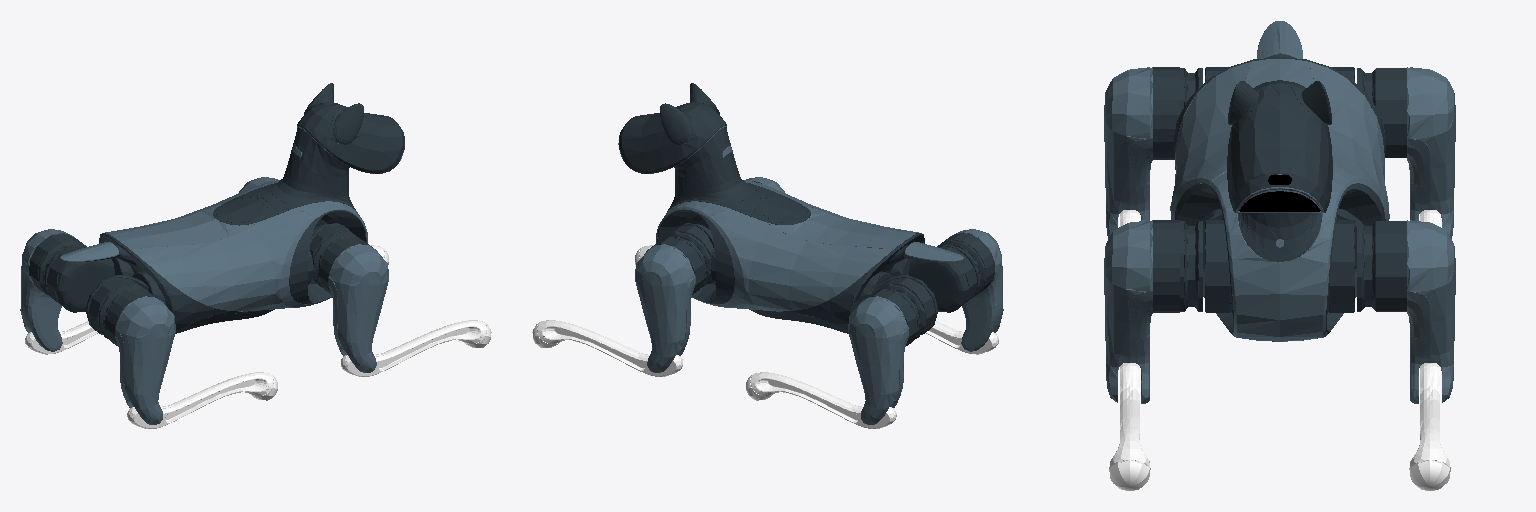
--- Render facts (derived) ---
Views: 3 orthographic renders of the robot side by side, from view 1: azimuth 30°, elevation 25°; view 2: azimuth 150°, elevation 25°; view 3: azimuth 270°, elevation 25°.
Robot: cyber_dog — 36 links, 35 joints (12 revolute, 23 fixed); root link base; default pose: all joints at 0 but 4 set to mid-range because 0 is outside their limits (FR_calf_joint = 1.53, FL_calf_joint = 1.53, RR_calf_joint = 1.53, RL_calf_joint = 1.53).
Visible links, largest first — view 1: trunk, RR_thigh, FR_thigh, RL_thigh, RL_hip, RR_calf, FR_calf, RR_hip, RL_calf, FR_hip; view 2: trunk, RL_thigh, FL_thigh, RR_thigh, RR_hip, RL_calf, FL_calf, RL_hip, RR_calf, FL_hip; view 3: trunk, FR_thigh, FL_thigh, RR_thigh, RL_thigh, FL_calf, FR_calf, FR_hip, FL_hip.
Link boxes in pixels (x1,y1,x2,y2): trunk: (60, 83, 404, 333); RR_thigh: (98, 284, 175, 424); FR_thigh: (313, 232, 388, 372); RL_thigh: (20, 229, 86, 351); RL_hip: (47, 246, 133, 312); RR_calf: (127, 372, 277, 428); FR_calf: (341, 320, 491, 376); RR_hip: (85, 271, 165, 334); RL_calf: (25, 321, 97, 354); FR_hip: (308, 223, 354, 286); trunk: (618, 83, 963, 333); RL_thigh: (848, 284, 925, 424); FL_thigh: (635, 232, 710, 372); RR_thigh: (937, 229, 1003, 351); RR_hip: (890, 246, 976, 312); RL_calf: (746, 372, 896, 428); FL_calf: (532, 320, 682, 376); RL_hip: (858, 271, 938, 334); RR_calf: (926, 321, 998, 354); FL_hip: (668, 223, 715, 287); trunk: (1170, 21, 1389, 341); FR_thigh: (1104, 220, 1202, 403); FL_thigh: (1357, 220, 1455, 403); RR_thigh: (1104, 67, 1202, 238); RL_thigh: (1357, 67, 1455, 238); FL_calf: (1409, 363, 1450, 490); FR_calf: (1109, 363, 1150, 490); FR_hip: (1200, 209, 1232, 313); FL_hip: (1327, 209, 1359, 313).
Bounding box of the posed robot: 0.5804 × 0.3191 × 0.3503 m (x, y, z).
Meshes: 5 distinct files referenced, 13 mesh visuals loaded (5 Collada DAE).

URDF robot description (cyber_dog):
<?xml version="1.0" encoding="utf-8"?>
<!-- =================================================================================== -->
<!-- |    This document was autogenerated by xacro from robot.xacro                    | -->
<!-- |    EDITING THIS FILE BY HAND IS NOT RECOMMENDED                                 | -->
<!-- =================================================================================== -->
<robot name="cyber_dog">
  <material name="orange">
    <color rgba="1.0 0.4235294117647059 0.0392156862745098 1.0"/>
  </material>
  <material name="white">
    <color rgba="1.0 1.0 1.0 1.0"/>
  </material>
  <material name="blue">
    <color rgba="0.0 0.0 0.8 1.0"/>
  </material>
  <link name="base">
    <visual>
      <origin rpy="0 0 0" xyz="0 0 0"/>
      <geometry>
        <box size="0.001 0.001 0.001"/>
      </geometry>
    </visual>
  </link>
  <joint name="floating_base" type="fixed">
    <origin rpy="0 0 0" xyz="0 0 0"/>
    <parent link="base"/>
    <child link="trunk"/>
  </joint>
  <link name="trunk">
    <visual>
      <origin rpy="0 0 0" xyz="0 0 0"/>
      <geometry>
        <mesh filename="../meshes/body.dae" scale="1 1 1"/>
      </geometry>
    </visual>
    <collision>
      <origin rpy="0 0 0" xyz="0 0 0"/>
      <geometry>
        <box size="0.236 0.19 0.109"/>
      </geometry>
    </collision>
    <inertial>
      <origin rpy="0 0 0" xyz="0.0273 -0.000242 0.0143"/>
      <mass value="4.03"/>
      <inertia ixx="0.0185" ixy="-0.000173" ixz="-0.0102" iyy="0.0517" iyz="-2.83e-05" izz="0.0483"/>
    </inertial>
  </link>
  <joint name="imu_joint" type="fixed">
    <parent link="trunk"/>
    <child link="imu_link"/>
    <origin rpy="0 0 0" xyz="33.4e-3 -17.2765e-3 51.0469e-3"/>
  </joint>
  <link name="imu_link">
    <inertial>
      <mass value="0.001"/>
      <origin rpy="0 0 0" xyz="0 0 0"/>
      <inertia ixx="0.0001" ixy="0" ixz="0" iyy="0.0001" iyz="0" izz="0.0001"/>
    </inertial>
    <visual>
      <origin rpy="0 0 0" xyz="0 0 0"/>
      <geometry>
        <box size="0.001 0.001 0.001"/>
      </geometry>
    </visual>
    <collision>
      <origin rpy="0 0 0" xyz="0 0 0"/>
      <geometry>
        <box size=".001 .001 .001"/>
      </geometry>
    </collision>
  </link>
  <!-- <joint name="scan_joint" type="fixed">
    <parent link="body"/>
    <child link="lidar_link"/>
    <origin rpy="0 0 0" xyz="0.21425 0 0.0908"/>
  </joint> -->
  <!-- <link name="lidar_link">
    <inertial>
      <mass value="0.001"/>
      <origin rpy="0 0 0" xyz="0 0 0"/>
      <inertia ixx="0.0001" ixy="0" ixz="0" iyy="0.0001" iyz="0" izz="0.0001"/>
    </inertial>
  </link> -->
  <!-- <joint name="D435_camera_joint" type="fixed">
    <parent link="body"/>
    <child link="D435_camera_link"/>
    <origin rpy="0 0 0" xyz="271.994e-3 25e-3 114.912e-3"/>
  </joint> -->
  <!-- <link name="D435_camera_link">
    <inertial>
      <mass value="0.001"/>
      <origin rpy="0 0 0" xyz="0 0 0"/>
      <inertia ixx="0.0001" ixy="0" ixz="0" iyy="0.0001" iyz="0" izz="0.0001"/>
    </inertial>
    <visual>
      <origin rpy="0 0 0" xyz="0 0 0"/>
      <geometry>
        <box size="0.001 0.001 0.001"/>
      </geometry>
    </visual>
    <collision>
      <origin rpy="0 0 0" xyz="0 0 0"/>
      <geometry>
        <box size=".001 .001 .001"/>
      </geometry>
    </collision>
  </link> -->
  <!-- <joint name="RGB_camera_joint" type="fixed">
    <parent link="body"/>
    <child link="RGB_camera_link"/>
    <origin rpy="0 0 0" xyz="275.76e-3 0 125.794e-3"/>
  </joint> -->
  <!-- <link name="RGB_camera_link">
    <inertial>
      <mass value="0.001"/>
      <origin rpy="0 0 0" xyz="0 0 0"/>
      <inertia ixx="0.0001" ixy="0" ixz="0" iyy="0.0001" iyz="0" izz="0.0001"/>
    </inertial>
    <visual>
      <origin rpy="0 0 0" xyz="0 0 0"/>
      <geometry>
        <box size="0.001 0.001 0.001"/>
      </geometry>
    </visual>
    <collision>
      <origin rpy="0 0 0" xyz="0 0 0"/>
      <geometry>
        <box size=".001 .001 .001"/>
      </geometry>
    </collision>
  </link> -->
  <!-- <joint name="AI_camera_joint" type="fixed">
    <parent link="body"/>
    <child link="AI_camera_link"/>
    <origin rpy="0 0 0" xyz="290.228e-3 0 147.420e-3"/>
  </joint> -->
  <!-- <link name="AI_camera_link">
    <inertial>
      <mass value="0.001"/>
      <origin rpy="0 0 0" xyz="0 0 0"/>
      <inertia ixx="0.0001" ixy="0" ixz="0" iyy="0.0001" iyz="0" izz="0.0001"/>
    </inertial>
    <visual>
      <origin rpy="0 0 0" xyz="0 0 0"/>
      <geometry>
        <box size="0.001 0.001 0.001"/>
      </geometry>
    </visual>
    <collision>
      <origin rpy="0 0 0" xyz="0 0 0"/>
      <geometry>
        <box size=".001 .001 .001"/>
      </geometry>
    </collision>
  </link> -->
  <joint name="FR_hip_joint" type="revolute">
    <origin rpy="0 0 0" xyz="0.164 -0.042 0"/>
    <parent link="trunk"/>
    <child link="FR_hip"/>
    <axis xyz="1 0 0"/>
    <dynamics damping="0.05" friction="0.2"/>
    <limit effort="12.0001" lower="-0.680678408278" upper="0.680678408278" velocity="38.1935483871"/>
  </joint>
  <link name="FR_hip">
    <visual>
      <origin rpy="3.14159265359 0 0" xyz="0 0 0"/>
      <geometry>
        <mesh filename="../meshes/abad.dae" scale="1 1 1"/>
      </geometry>
      <!-- <material name="orange"/> -->
    </visual>
    <!-- Remove similar to go1 -->
    <!-- <collision>
      <origin rpy="1.57079632679 0 0" xyz="0 0 0"/>
      <geometry>
        <cylinder length="0.035" radius="0.039"/>
      </geometry>
    </collision> -->
    <inertial>
      <origin rpy="0 0 0" xyz="-0.00392 -0.015 -0.000306"/>
      <mass value="0.354"/>
      <inertia ixx="0.00019" ixy="2.7e-05" ixz="-3.44e-07" iyy="0.000276" iyz="-1.95e-06" izz="0.000233"/>
    </inertial>
  </link>
  <joint name="FR_hip_rotor_inertia_joint" type="fixed">
    <origin rpy="0 0 0" xyz="-0.0642303 0 0"/>
    <parent link="FR_hip"/>
    <child link="FR_hip_rotor_inertia"/>
  </joint>
  <!-- this link is only for abad rotor inertial -->
  <link name="FR_hip_rotor_inertia">
    <inertial>
      <origin rpy="0 0 0" xyz="0 0 0"/>
      <mass value="0.0567"/>
      <inertia ixx="2.53e-05" ixy="0" ixz="0" iyy="2.53e-05" iyz="0" izz="4.78e-05"/>
    </inertial>
  </link>
  <joint name="FR_hip_rotor_joint" type="fixed">
    <origin rpy="0 0 0" xyz="0 -0.059 0"/>
    <parent link="FR_hip"/>
    <child link="FR_hip_rotor"/>
  </joint>
  <link name="FR_hip_rotor">
    <!-- Remove similar to go1 -->
    <!-- <collision>
      <origin rpy="1.57079632679 0 0" xyz="0 0 0"/>
      <geometry>
        <cylinder length="0.035" radius="0.039"/>
      </geometry>
    </collision> -->
  </link>
  <joint name="FR_thigh_joint" type="revolute">
    <origin rpy="0 0 3.14159265359" xyz="0 -0.094 0"/>
    <parent link="FR_hip"/>
    <child link="FR_thigh"/>
    <axis xyz="0 1 0"/>
    <dynamics damping="0.05" friction="0.2"/>
    <limit effort="12.0001" lower="-2.79252680319" upper="1.32645023152" velocity="38.1935483871"/>
  </joint>
  <link name="FR_thigh">
    <visual>
      <origin rpy="0 0 0" xyz="0 0 0"/>
      <geometry>
        <mesh filename="../meshes/hip_mirror.dae" scale="1 1 1"/>
      </geometry>
      <!-- <material name="orange"/> -->
    </visual>
    <collision>
      <origin rpy="0 1.57079632679 0" xyz="0 0 -0.06"/>
      <geometry>
        <box size="0.12 0.025 0.034"/>
      </geometry>
    </collision>
    <inertial>
      <origin rpy="0 0 0" xyz="0.00212 -0.0212 -0.0184"/>
      <mass value="0.482"/>
      <inertia ixx="0.00101" ixy="-2.23e-05" ixz="3.85e-05" iyy="0.000983" iyz="0.000199" izz="0.000347"/>
    </inertial>
  </link>
  <joint name="FR_thigh_rotor_fix" type="fixed">
    <origin rpy="0 0 0" xyz="0 -0.07577 0"/>
    <parent link="FR_thigh"/>
    <child link="FR_thigh_rotor"/>
  </joint>
  <!-- this link is only for hip rotor inertial -->
  <link name="FR_thigh_rotor">
    <inertial>
      <origin rpy="0 0 0" xyz="0 0 0"/>
      <mass value="0.0567"/>
      <inertia ixx="2.53e-05" ixy="0" ixz="0" iyy="2.53e-05" iyz="0" izz="4.78e-05"/>
    </inertial>
  </link>
  <joint name="FR_knee_rotor_fix" type="fixed">
    <origin rpy="0 0 0" xyz="0 -0.0342303 0"/>
    <parent link="FR_thigh"/>
    <child link="FR_knee_rotor"/>
  </joint>
  <!-- this link is only for knee rotor inertial -->
  <link name="FR_knee_rotor">
    <inertial>
      <origin rpy="0 0 0" xyz="0 0 0"/>
      <mass value="0.0567"/>
      <inertia ixx="2.53e-05" ixy="0" ixz="0" iyy="2.53e-05" iyz="0" izz="4.78e-05"/>
    </inertial>
  </link>
  <joint name="FR_calf_joint" type="revolute">
    <origin rpy="0 0 0" xyz="0 0 -0.12"/>
    <parent link="FR_thigh"/>
    <child link="FR_calf"/>
    <axis xyz="0 1 0"/>
    <dynamics damping="0.05" friction="0.2"/>
    <limit effort="12.0001" lower="0.523598775598" upper="2.53072741539" velocity="38.1935483871"/>
  </joint>
  <link name="FR_calf">
    <visual>
      <origin rpy="0 0 0" xyz="0 0 0"/>
      <geometry>
        <mesh filename="../meshes/knee.dae" scale="1 1 1"/>
      </geometry>
      <material name="white"/>
    </visual>
    <collision>
      <origin rpy="0 3.14159265359 0" xyz="0 0 -0.091705"/>
      <geometry>
        <box size="0.016 0.016 0.18341"/>
      </geometry>
    </collision>
    <collision name="FR_knee_rubber">
      <origin rpy="0 3.14159265359 0" xyz="0.01 0 -0.007"/>
      <geometry>
        <sphere radius="0.016"/>
      </geometry>
      <surface>
        <contact>
          <ode>
            <max_vel>0.00001</max_vel>
            <min_depth>0.0</min_depth>
          </ode>
        </contact>
      </surface>
    </collision>
    <inertial>
      <origin rpy="0 0 0" xyz="-0.0006 4.72e-05 -0.0893"/>
      <mass value="0.116"/>
      <inertia ixx="0.000668" ixy="3e-09" ixz="-2.37e-05" iyy="0.000674" iyz="-6.03e-07" izz="1.54e-05"/>
    </inertial>
  </link>
  <joint name="FR_foot_fixed" type="fixed" dont_collapse="true">
    <origin rpy="0 0 0" xyz="-0.0055 0 -0.17391"/>
    <parent link="FR_calf"/>
    <child link="FR_foot"/>
  </joint>
  <link name="FR_foot">
    <visual>
      <origin rpy="0 0 0" xyz="0 0 0"/>
      <geometry>
        <sphere radius="0.009"/>
      </geometry>
      <material name="white"/>
    </visual>
    <collision>
      <origin rpy="0 0 0" xyz="0 0 0"/>
      <geometry>
        <sphere radius="0.019"/>
      </geometry>
      <!-- <surface>
        <contact>
          <ode>
            <max_vel>0.001</max_vel>
            <min_depth>0.0</min_depth>
          </ode>
        </contact>
      </surface> -->
    </collision>
  </link>
  <joint name="FL_hip_joint" type="revolute">
    <origin rpy="0 0 0" xyz="0.164 0.042 0"/>
    <parent link="trunk"/>
    <child link="FL_hip"/>
    <axis xyz="1 0 0"/>
    <dynamics damping="0.05" friction="0.2"/>
    <limit effort="12.0001" lower="-0.680678408278" upper="0.680678408278" velocity="38.1935483871"/>
  </joint>
  <link name="FL_hip">
    <visual>
      <origin rpy="0 0 0" xyz="0 0 0"/>
      <geometry>
        <mesh filename="../meshes/abad.dae" scale="1 1 1"/>
      </geometry>
      <!-- <material name="orange"/> -->
    </visual>
    <!-- <collision>
      <origin rpy="1.57079632679 0 0" xyz="0 0 0"/>
      <geometry>
        <cylinder length="0.035" radius="0.039"/>
      </geometry>
    </collision> -->
    <inertial>
      <origin rpy="0 0 0" xyz="-0.00392 0.015 -0.000306"/>
      <mass value="0.354"/>
      <inertia ixx="0.00019" ixy="-2.7e-05" ixz="-3.44e-07" iyy="0.000276" iyz="1.95e-06" izz="0.000233"/>
    </inertial>
  </link>
  <joint name="FL_hip_rotor_inertia_joint" type="fixed">
    <origin rpy="0 0 0" xyz="-0.0642303 0 0"/>
    <parent link="FL_hip"/>
    <child link="FL_hip_rotor_inertia"/>
  </joint>
  <!-- this link is only for abad rotor inertial -->
  <link name="FL_hip_rotor_inertia">
    <inertial>
      <origin rpy="0 0 0" xyz="0 0 0"/>
      <mass value="0.0567"/>
      <inertia ixx="2.53e-05" ixy="0" ixz="0" iyy="2.53e-05" iyz="0" izz="4.78e-05"/>
    </inertial>
  </link>
  <joint name="FL_hip_rotor_joint" type="fixed">
    <origin rpy="0 0 0" xyz="0 0.059 0"/>
    <parent link="FL_hip"/>
    <child link="FL_hip_rotor"/>
  </joint>
  <link name="FL_hip_rotor">
    <!-- <collision>
      <origin rpy="1.57079632679 0 0" xyz="0 0 0"/>
      <geometry>
        <cylinder length="0.035" radius="0.039"/>
      </geometry>
    </collision> -->
  </link>
  <joint name="FL_thigh_joint" type="revolute">
    <origin rpy="0 0 3.14159265359" xyz="0 0.094 0"/>
    <parent link="FL_hip"/>
    <child link="FL_thigh"/>
    <axis xyz="0 1 0"/>
    <dynamics damping="0.05" friction="0.2"/>
    <limit effort="12.0001" lower="-2.79252680319" upper="1.32645023152" velocity="38.1935483871"/>
  </joint>
  <link name="FL_thigh">
    <visual>
      <origin rpy="0 0 0" xyz="0 0 0"/>
      <geometry>
        <mesh filename="../meshes/hip.dae" scale="1 1 1"/>
      </geometry>
      <!-- <material name="orange"/> -->
    </visual>
    <collision>
      <origin rpy="0 1.57079632679 0" xyz="0 0 -0.06"/>
      <geometry>
        <box size="0.12 0.025 0.034"/>
      </geometry>
    </collision>
    <inertial>
      <origin rpy="0 0 0" xyz="0.00212 0.0212 -0.0184"/>
      <mass value="0.482"/>
      <inertia ixx="0.00101" ixy="2.23e-05" ixz="3.85e-05" iyy="0.000983" iyz="-0.000199" izz="0.000347"/>
    </inertial>
  </link>
  <joint name="FL_thigh_rotor_fix" type="fixed">
    <origin rpy="0 0 0" xyz="0 0.07577 0"/>
    <parent link="FL_thigh"/>
    <child link="FL_thigh_rotor"/>
  </joint>
  <!-- this link is only for hip rotor inertial -->
  <link name="FL_thigh_rotor">
    <inertial>
      <origin rpy="0 0 0" xyz="0 0 0"/>
      <mass value="0.0567"/>
      <inertia ixx="2.53e-05" ixy="0" ixz="0" iyy="2.53e-05" iyz="0" izz="4.78e-05"/>
    </inertial>
  </link>
  <joint name="FL_knee_rotor_fix" type="fixed">
    <origin rpy="0 0 0" xyz="0 0.0342303 0"/>
    <parent link="FL_thigh"/>
    <child link="FL_knee_rotor"/>
  </joint>
  <!-- this link is only for knee rotor inertial -->
  <link name="FL_knee_rotor">
    <inertial>
      <origin rpy="0 0 0" xyz="0 0 0"/>
      <mass value="0.0567"/>
      <inertia ixx="2.53e-05" ixy="0" ixz="0" iyy="2.53e-05" iyz="0" izz="4.78e-05"/>
    </inertial>
  </link>
  <joint name="FL_calf_joint" type="revolute">
    <origin rpy="0 0 0" xyz="0 0 -0.12"/>
    <parent link="FL_thigh"/>
    <child link="FL_calf"/>
    <axis xyz="0 1 0"/>
    <dynamics damping="0.05" friction="0.2"/>
    <limit effort="12.0001" lower="0.523598775598" upper="2.53072741539" velocity="38.1935483871"/>
  </joint>
  <link name="FL_calf">
    <visual>
      <origin rpy="0 0 0" xyz="0 0 0"/>
      <geometry>
        <mesh filename="../meshes/knee.dae" scale="1 1 1"/>
      </geometry>
      <material name="white"/>
    </visual>
    <collision>
      <origin rpy="0 3.14159265359 0" xyz="0 0 -0.091705"/>
      <geometry>
        <box size="0.016 0.016 0.18341"/>
      </geometry>
    </collision>
    <collision name="FL_knee_rubber">
      <origin rpy="0 3.14159265359 0" xyz="0.01 0 -0.007"/>
      <geometry>
        <sphere radius="0.016"/>
      </geometry>
      <surface>
        <contact>
          <ode>
            <max_vel>0.00001</max_vel>
            <min_depth>0.0</min_depth>
          </ode>
        </contact>
      </surface>
    </collision>
    <inertial>
      <origin rpy="0 0 0" xyz="-0.0006 4.72e-05 -0.0893"/>
      <mass value="0.116"/>
      <inertia ixx="0.000668" ixy="3e-09" ixz="-2.37e-05" iyy="0.000674" iyz="-6.03e-07" izz="1.54e-05"/>
    </inertial>
  </link>
  <joint name="FL_foot_fixed" type="fixed" dont_collapse="true">
    <origin rpy="0 0 0" xyz="-0.0055 0 -0.17391"/>
    <parent link="FL_calf"/>
    <child link="FL_foot"/>
  </joint>
  <link name="FL_foot">
    <visual>
      <origin rpy="0 0 0" xyz="0 0 0"/>
      <geometry>
        <sphere radius="0.009"/>
      </geometry>
      <material name="white"/>
    </visual>
    <collision>
      <origin rpy="0 0 0" xyz="0 0 0"/>
      <geometry>
        <sphere radius="0.019"/>
      </geometry>
      <!-- <surface>
        <contact>
          <ode>
            <max_vel>0.001</max_vel>
            <min_depth>0.0</min_depth>
          </ode>
        </contact>
      </surface> -->
    </collision>
  </link>
  <joint name="RR_hip_joint" type="revolute">
    <origin rpy="0 0 0" xyz="-0.164 -0.042 0"/>
    <parent link="trunk"/>
    <child link="RR_hip"/>
    <axis xyz="1 0 0"/>
    <dynamics damping="0.05" friction="0.2"/>
    <limit effort="12.0001" lower="-0.680678408278" upper="0.680678408278" velocity="38.1935483871"/>
  </joint>
  <link name="RR_hip">
    <visual>
      <origin rpy="3.14159265359 3.14159265359 0" xyz="0 0 0"/>
      <geometry>
        <mesh filename="../meshes/abad.dae" scale="1 1 1"/>
      </geometry>
      <!-- <material name="orange"/> -->
    </visual>
    <!-- <collision>
      <origin rpy="1.57079632679 0 0" xyz="0 0 0"/>
      <geometry>
        <cylinder length="0.035" radius="0.039"/>
      </geometry>
    </collision> -->
    <inertial>
      <origin rpy="0 0 0" xyz="0.00392 -0.015 -0.000306"/>
      <mass value="0.354"/>
      <inertia ixx="0.00019" ixy="-2.7e-05" ixz="3.44e-07" iyy="0.000276" iyz="-1.95e-06" izz="0.000233"/>
    </inertial>
  </link>
  <joint name="RR_hip_rotor_inertia_joint" type="fixed">
    <origin rpy="0 0 0" xyz="0.0642303 0 0"/>
    <parent link="RR_hip"/>
    <child link="RR_hip_rotor_inertia"/>
  </joint>
  <!-- this link is only for abad rotor inertial -->
  <link name="RR_hip_rotor_inertia">
    <inertial>
      <origin rpy="0 0 0" xyz="0 0 0"/>
      <mass value="0.0567"/>
      <inertia ixx="2.53e-05" ixy="0" ixz="0" iyy="2.53e-05" iyz="0" izz="4.78e-05"/>
    </inertial>
  </link>
  <joint name="RR_hip_rotor_joint" type="fixed">
    <origin rpy="0 0 0" xyz="0 -0.059 0"/>
    <parent link="RR_hip"/>
    <child link="RR_hip_rotor"/>
  </joint>
  <link name="RR_hip_rotor">
    <!-- <collision>
      <origin rpy="1.57079632679 0 0" xyz="0 0 0"/>
      <geometry>
        <cylinder length="0.035" radius="0.039"/>
      </geometry>
    </collision> -->
  </link>
  <joint name="RR_thigh_joint" type="revolute">
    <origin rpy="0 0 3.14159265359" xyz="0 -0.094 0"/>
    <parent link="RR_hip"/>
    <child link="RR_thigh"/>
    <axis xyz="0 1 0"/>
    <dynamics damping="0.05" friction="0.2"/>
    <limit effort="12.0001" lower="-3.14159265359" upper="0.977384381117" velocity="38.1935483871"/>
  </joint>
  <link name="RR_thigh">
    <visual>
      <origin rpy="0 0 0" xyz="0 0 0"/>
      <geometry>
        <mesh filename="../meshes/hip_mirror.dae" scale="1 1 1"/>
      </geometry>
      <!-- <material name="orange"/> -->
    </visual>
    <collision>
      <origin rpy="0 1.57079632679 0" xyz="0 0 -0.06"/>
      <geometry>
        <box size="0.12 0.025 0.034"/>
      </geometry>
    </collision>
    <inertial>
      <origin rpy="0 0 0" xyz="0.00212 -0.0212 -0.0184"/>
      <mass value="0.482"/>
      <inertia ixx="0.00101" ixy="-2.23e-05" ixz="3.85e-05" iyy="0.000983" iyz="0.000199" izz="0.000347"/>
    </inertial>
  </link>
  <joint name="RR_thigh_rotor_fix" type="fixed">
    <origin rpy="0 0 0" xyz="0 -0.07577 0"/>
    <parent link="RR_thigh"/>
    <child link="RR_thigh_rotor"/>
  </joint>
  <!-- this link is only for hip rotor inertial -->
  <link name="RR_thigh_rotor">
    <inertial>
      <origin rpy="0 0 0" xyz="0 0 0"/>
      <mass value="0.0567"/>
      <inertia ixx="2.53e-05" ixy="0" ixz="0" iyy="2.53e-05" iyz="0" izz="4.78e-05"/>
    </inertial>
  </link>
  <joint name="RR_knee_rotor_fix" type="fixed">
    <origin rpy="0 0 0" xyz="0 -0.0342303 0"/>
    <parent link="RR_thigh"/>
    <child link="RR_knee_rotor"/>
  </joint>
  <!-- this link is only for knee rotor inertial -->
  <link name="RR_knee_rotor">
    <inertial>
      <origin rpy="0 0 0" xyz="0 0 0"/>
      <mass value="0.0567"/>
      <inertia ixx="2.53e-05" ixy="0" ixz="0" iyy="2.53e-05" iyz="0" izz="4.78e-05"/>
    </inertial>
  </link>
  <joint name="RR_calf_joint" type="revolute">
    <origin rpy="0 0 0" xyz="0 0 -0.12"/>
    <parent link="RR_thigh"/>
    <child link="RR_calf"/>
    <axis xyz="0 1 0"/>
    <dynamics damping="0.05" friction="0.2"/>
    <limit effort="12.0001" lower="0.523598775598" upper="2.53072741539" velocity="38.1935483871"/>
  </joint>
  <link name="RR_calf">
    <visual>
      <origin rpy="0 0 0" xyz="0 0 0"/>
      <geometry>
        <mesh filename="../meshes/knee.dae" scale="1 1 1"/>
      </geometry>
      <material name="white"/>
    </visual>
    <collision>
      <origin rpy="0 3.14159265359 0" xyz="0 0 -0.091705"/>
      <geometry>
        <box size="0.016 0.016 0.18341"/>
      </geometry>
    </collision>
    <collision name="RR_knee_rubber">
      <origin rpy="0 3.14159265359 0" xyz="0.01 0 -0.007"/>
      <geometry>
        <sphere radius="0.016"/>
      </geometry>
      <surface>
        <contact>
          <ode>
            <max_vel>0.00001</max_vel>
            <min_depth>0.0</min_depth>
          </ode>
        </contact>
      </surface>
    </collision>
    <inertial>
      <origin rpy="0 0 0" xyz="-0.0006 4.72e-05 -0.0893"/>
      <mass value="0.116"/>
      <inertia ixx="0.000668" ixy="3e-09" ixz="-2.37e-05" iyy="0.000674" iyz="-6.03e-07" izz="1.54e-05"/>
    </inertial>
  </link>
  <joint name="RR_foot_fixed" type="fixed" dont_collapse="true">
    <origin rpy="0 0 0" xyz="-0.0055 0 -0.17391"/>
    <parent link="RR_calf"/>
    <child link="RR_foot"/>
  </joint>
  <link name="RR_foot">
    <visual>
      <origin rpy="0 0 0" xyz="0 0 0"/>
      <geometry>
        <sphere radius="0.009"/>
      </geometry>
      <material name="white"/>
    </visual>
    <collision>
      <origin rpy="0 0 0" xyz="0 0 0"/>
      <geometry>
        <sphere radius="0.019"/>
      </geometry>
      <!-- <surface>
        <contact>
          <ode>
            <max_vel>0.001</max_vel>
            <min_depth>0.0</min_depth>
          </ode>
        </contact>
      </surface> -->
    </collision>
  </link>
  <joint name="RL_hip_joint" type="revolute">
    <origin rpy="0 0 0" xyz="-0.164 0.042 0"/>
    <parent link="trunk"/>
    <child link="RL_hip"/>
    <axis xyz="1 0 0"/>
    <dynamics damping="0.05" friction="0.2"/>
    <limit effort="12.0001" lower="-0.680678408278" upper="0.680678408278" velocity="38.1935483871"/>
  </joint>
  <link name="RL_hip">
    <visual>
      <origin rpy="0 3.14159265359 0" xyz="0 0 0"/>
      <geometry>
        <mesh filename="../meshes/abad.dae" scale="1 1 1"/>
      </geometry>
      <!-- <material name="orange"/> -->
    </visual>
    <!-- <collision>
      <origin rpy="1.57079632679 0 0" xyz="0 0 0"/>
      <geometry>
        <cylinder length="0.035" radius="0.039"/>
      </geometry>
    </collision> -->
    <inertial>
      <origin rpy="0 0 0" xyz="0.00392 0.015 -0.000306"/>
      <mass value="0.354"/>
      <inertia ixx="0.00019" ixy="2.7e-05" ixz="3.44e-07" iyy="0.000276" iyz="1.95e-06" izz="0.000233"/>
    </inertial>
  </link>
  <joint name="RL_hip_rotor_inertia_joint" type="fixed">
    <origin rpy="0 0 0" xyz="0.0642303 0 0"/>
    <parent link="RL_hip"/>
    <child link="RL_hip_rotor_inertia"/>
  </joint>
  <!-- this link is only for abad rotor inertial -->
  <link name="RL_hip_rotor_inertia">
    <inertial>
      <origin rpy="0 0 0" xyz="0 0 0"/>
      <mass value="0.0567"/>
      <inertia ixx="2.53e-05" ixy="0" ixz="0" iyy="2.53e-05" iyz="0" izz="4.78e-05"/>
    </inertial>
  </link>
  <joint name="RL_hip_rotor_joint" type="fixed">
    <origin rpy="0 0 0" xyz="0 0.059 0"/>
    <parent link="RL_hip"/>
    <child link="RL_hip_rotor"/>
  </joint>
  <link name="RL_hip_rotor">
    <!-- <collision>
      <origin rpy="1.57079632679 0 0" xyz="0 0 0"/>
      <geometry>
        <cylinder length="0.035" radius="0.039"/>
      </geometry>
    </collision> -->
  </link>
  <joint name="RL_thigh_joint" type="revolute">
    <origin rpy="0 0 3.14159265359" xyz="0 0.094 0"/>
    <parent link="RL_hip"/>
    <child link="RL_thigh"/>
    <axis xyz="0 1 0"/>
    <dynamics damping="0.05" friction="0.2"/>
    <limit effort="12.0001" lower="-3.14159265359" upper="0.977384381117" velocity="38.1935483871"/>
  </joint>
  <link name="RL_thigh">
    <visual>
      <origin rpy="0 0 0" xyz="0 0 0"/>
      <geometry>
        <mesh filename="../meshes/hip.dae" scale="1 1 1"/>
      </geometry>
      <!-- <material name="orange"/> -->
    </visual>
    <collision>
      <origin rpy="0 1.57079632679 0" xyz="0 0 -0.06"/>
      <geometry>
        <box size="0.12 0.025 0.034"/>
      </geometry>
    </collision>
    <inertial>
      <origin rpy="0 0 0" xyz="0.00212 0.0212 -0.0184"/>
      <mass value="0.482"/>
      <inertia ixx="0.00101" ixy="2.23e-05" ixz="3.85e-05" iyy="0.000983" iyz="-0.000199" izz="0.000347"/>
    </inertial>
  </link>
  <joint name="RL_thigh_rotor_fix" type="fixed">
    <origin rpy="0 0 0" xyz="0 0.07577 0"/>
    <parent link="RL_thigh"/>
    <child link="RL_thigh_rotor"/>
  </joint>
  <!-- this link is only for hip rotor inertial -->
  <link name="RL_thigh_rotor">
    <inertial>
      <origin rpy="0 0 0" xyz="0 0 0"/>
      <mass value="0.0567"/>
      <inertia ixx="2.53e-05" ixy="0" ixz="0" iyy="2.53e-05" iyz="0" izz="4.78e-05"/>
    </inertial>
  </link>
  <joint name="RL_knee_rotor_fix" type="fixed">
    <origin rpy="0 0 0" xyz="0 0.0342303 0"/>
    <parent link="RL_thigh"/>
    <child link="RL_knee_rotor"/>
  </joint>
  <!-- this link is only for knee rotor inertial -->
  <link name="RL_knee_rotor">
    <inertial>
      <origin rpy="0 0 0" xyz="0 0 0"/>
      <mass value="0.0567"/>
      <inertia ixx="2.53e-05" ixy="0" ixz="0" iyy="2.53e-05" iyz="0" izz="4.78e-05"/>
    </inertial>
  </link>
  <joint name="RL_calf_joint" type="revolute">
    <origin rpy="0 0 0" xyz="0 0 -0.12"/>
    <parent link="RL_thigh"/>
    <child link="RL_calf"/>
    <axis xyz="0 1 0"/>
    <dynamics damping="0.05" friction="0.2"/>
    <limit effort="12.0001" lower="0.523598775598" upper="2.53072741539" velocity="38.1935483871"/>
  </joint>
  <link name="RL_calf">
    <visual>
      <origin rpy="0 0 0" xyz="0 0 0"/>
      <geometry>
        <mesh filename="../meshes/knee.dae" scale="1 1 1"/>
      </geometry>
      <material name="white"/>
    </visual>
    <collision>
      <origin rpy="0 3.14159265359 0" xyz="0 0 -0.091705"/>
      <geometry>
        <box size="0.016 0.016 0.18341"/>
      </geometry>
    </collision>
    <collision name="RL_knee_rubber">
      <origin rpy="0 3.14159265359 0" xyz="0.01 0 -0.007"/>
      <geometry>
        <sphere radius="0.016"/>
      </geometry>
      <surface>
        <contact>
          <ode>
            <max_vel>0.00001</max_vel>
            <min_depth>0.0</min_depth>
          </ode>
        </contact>
      </surface>
    </collision>
    <inertial>
      <origin rpy="0 0 0" xyz="-0.0006 4.72e-05 -0.0893"/>
      <mass value="0.116"/>
      <inertia ixx="0.000668" ixy="3e-09" ixz="-2.37e-05" iyy="0.000674" iyz="-6.03e-07" izz="1.54e-05"/>
    </inertial>
  </link>
  <joint name="RL_foot_fixed" type="fixed" dont_collapse="true">
    <origin rpy="0 0 0" xyz="-0.0055 0 -0.17391"/>
    <parent link="RL_calf"/>
    <child link="RL_foot"/>
  </joint>
  <link name="RL_foot">
    <visual>
      <origin rpy="0 0 0" xyz="0 0 0"/>
      <geometry>
        <sphere radius="0.009"/>
      </geometry>
      <material name="white"/>
    </visual>
    <collision>
      <origin rpy="0 0 0" xyz="0 0 0"/>
      <geometry>
        <sphere radius="0.019"/>
      </geometry>
      <!-- <surface>
        <contact>
          <ode>
            <max_vel>0.001</max_vel>
            <min_depth>0.0</min_depth>
          </ode>
        </contact>
      </surface> -->
    </collision>
  </link>
  <!-- This link is only for head collision -->
  <joint name="head_joint" type="fixed">
    <parent link="trunk"/>
    <child link="head"/>
    <origin rpy="0 0 0" xyz="0 0 0"/>
  </joint>
  <link name="head">
    <collision>
      <origin rpy="0 0 0" xyz="0.256 0 0.120"/>
      <geometry>
        <box size="0.076 0.060 0.040"/>
      </geometry>
    </collision>
    <collision>
      <origin rpy="0 0 0" xyz="0.225 0 0.150"/>
      <geometry>
        <box size="0.020 0.080 0.100"/>
      </geometry>
    </collision>
  </link>
</robot>
